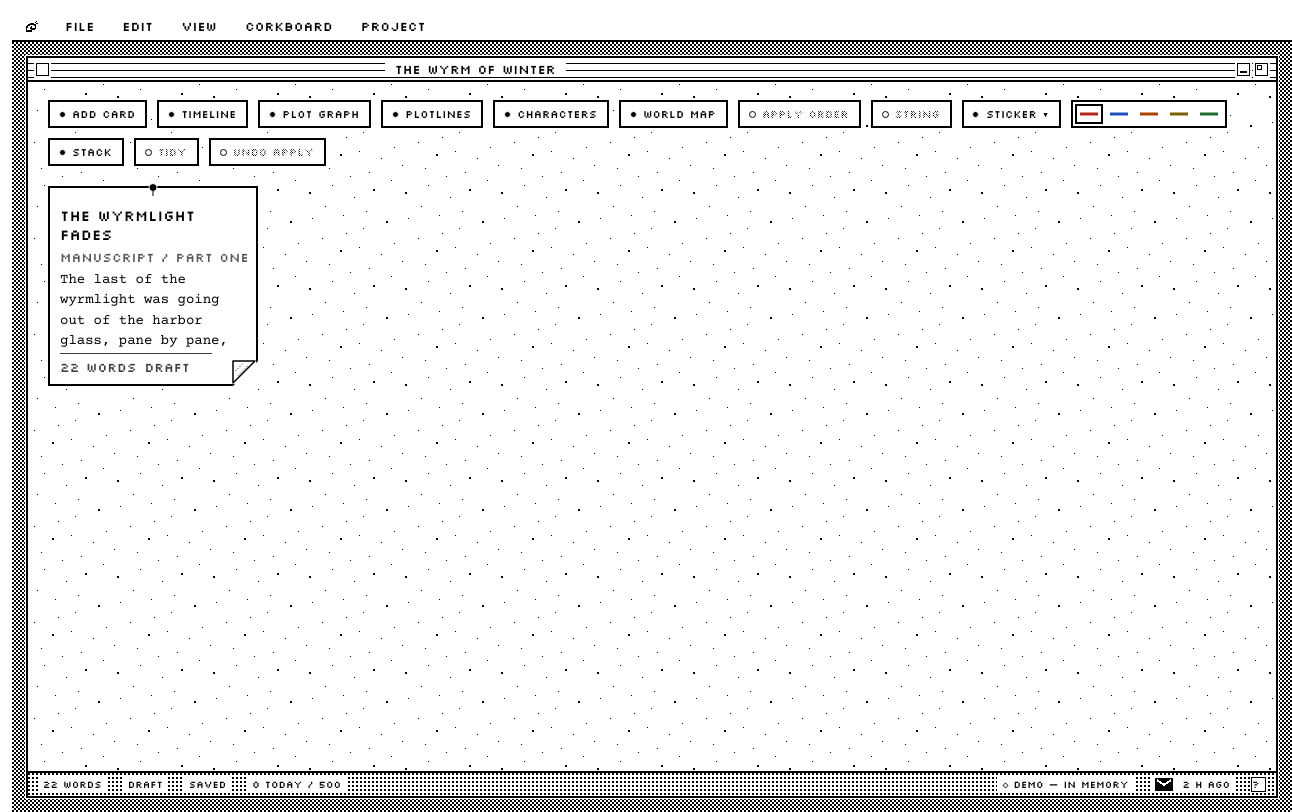
Test: the places that have to agree with the menu › opens a dialog from the board rather than only naming it
Expected: the element with class "corkboard-tools" is shown, [28,82,1276,166]
Click the button with class "board-tool" showing "Plotlines" at (432, 114), box [381,100,483,128]
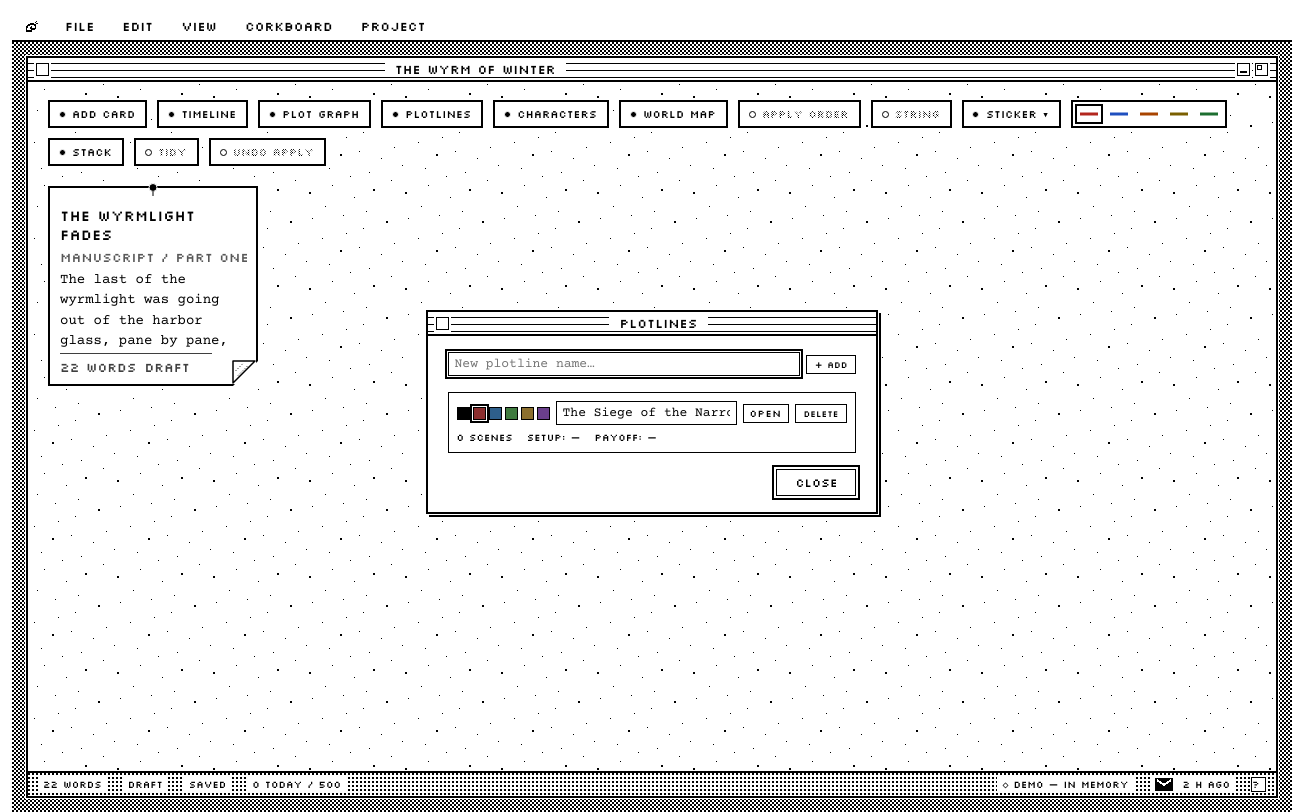
Expected: the element with class "dialog-overlay" is shown, [426,310,878,514]
